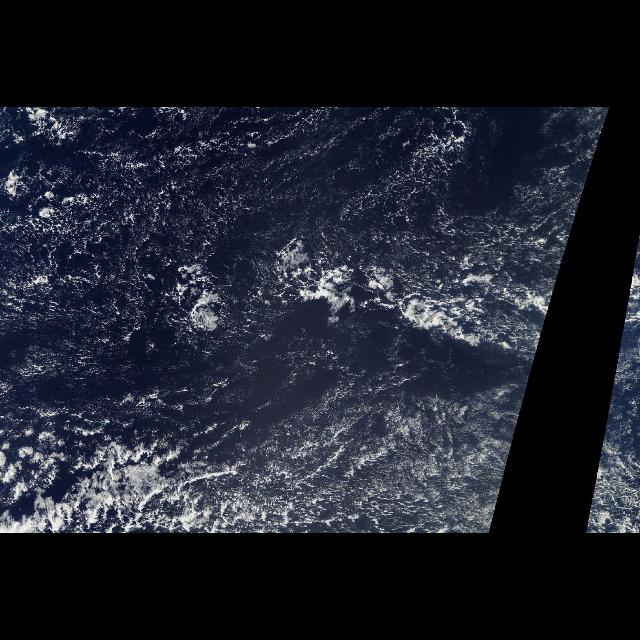Fish: (8, 389, 506, 533)
Gravel: (2, 108, 544, 522)
Sugar: (9, 110, 442, 336), (4, 364, 530, 528), (586, 419, 640, 527)
